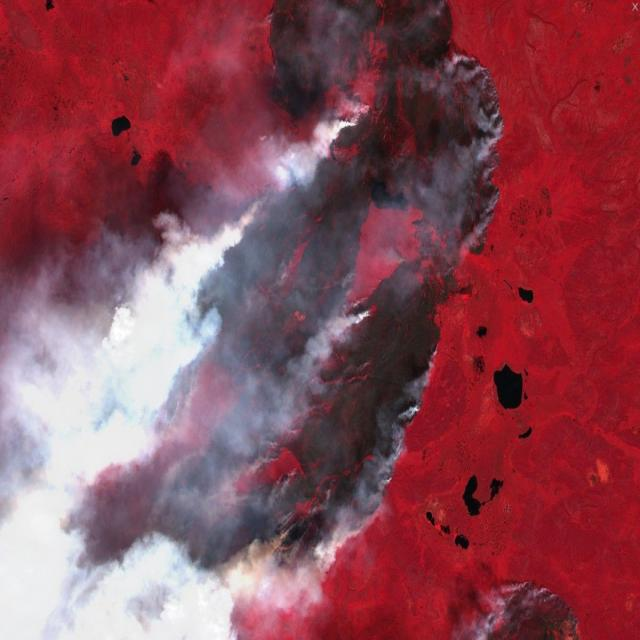fire: (59, 48, 511, 598), (472, 578, 586, 640)
